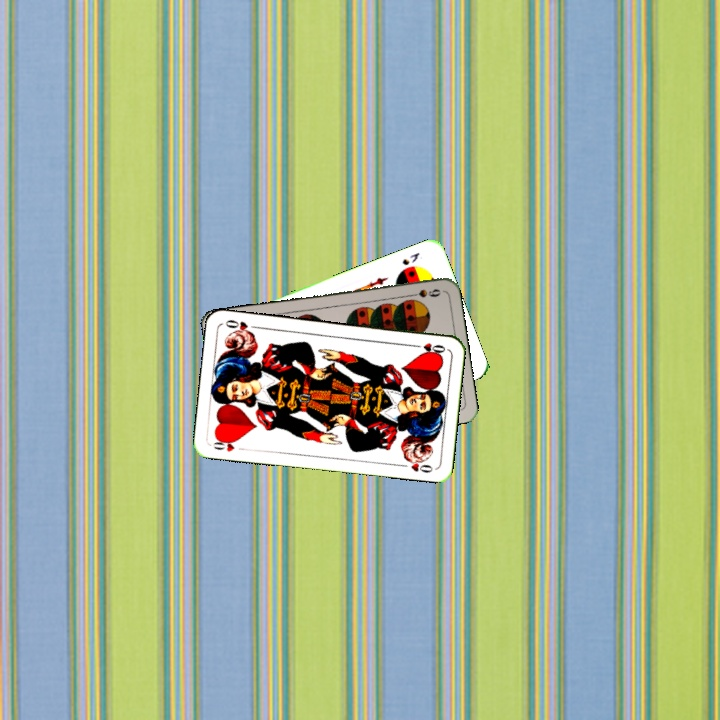HO: (210, 434, 248, 454), (408, 339, 448, 356)
S9: (403, 285, 443, 300)
SK: (398, 248, 422, 268)
